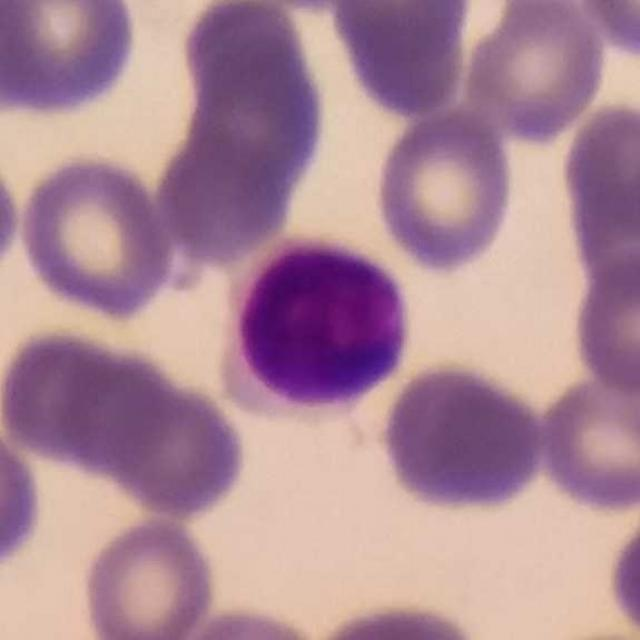Lymphocyte: (220, 235, 419, 427)
RBC: (179, 23, 332, 210), (15, 149, 179, 323), (375, 358, 550, 516), (370, 105, 518, 277), (91, 367, 252, 521), (458, 0, 611, 145), (152, 120, 300, 264), (1, 324, 141, 472), (54, 338, 186, 477), (78, 514, 220, 640), (325, 0, 475, 118), (0, 0, 143, 121), (532, 361, 640, 515), (174, 0, 317, 114), (556, 95, 640, 280), (567, 247, 640, 400), (306, 596, 488, 640), (0, 414, 47, 577), (166, 602, 327, 640), (602, 497, 640, 640), (572, 0, 640, 61), (0, 142, 24, 286)
